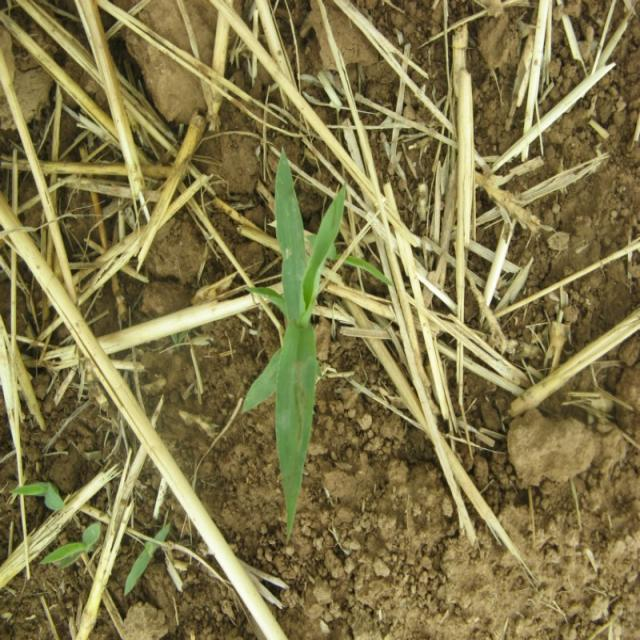bg: (236, 150, 355, 534)
